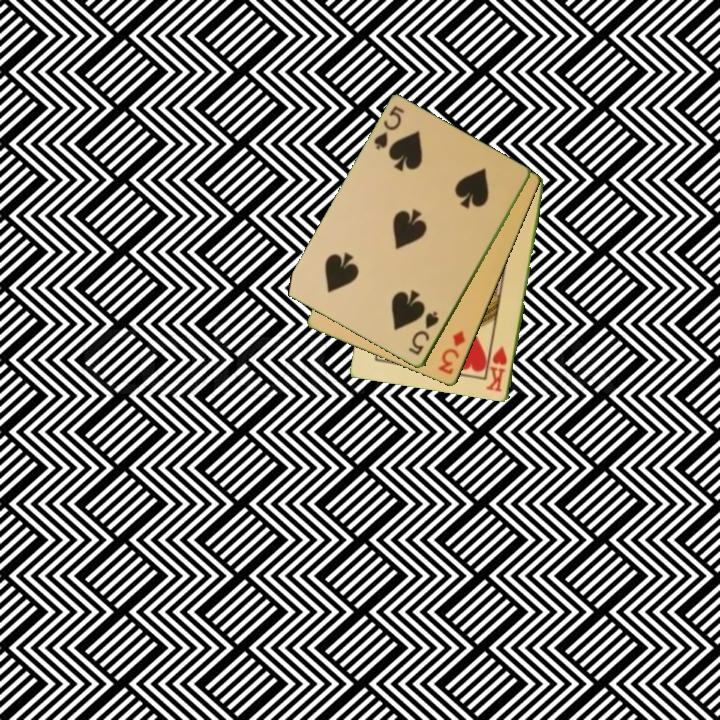3d: (434, 327, 468, 378)
5s: (405, 308, 442, 359), (370, 102, 407, 153)
Kh: (484, 343, 510, 395)
